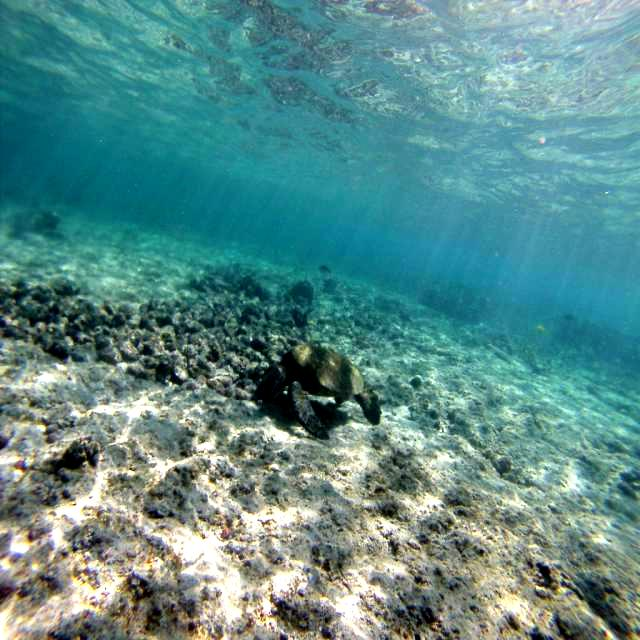Sea turtle: (254, 342, 380, 439)
